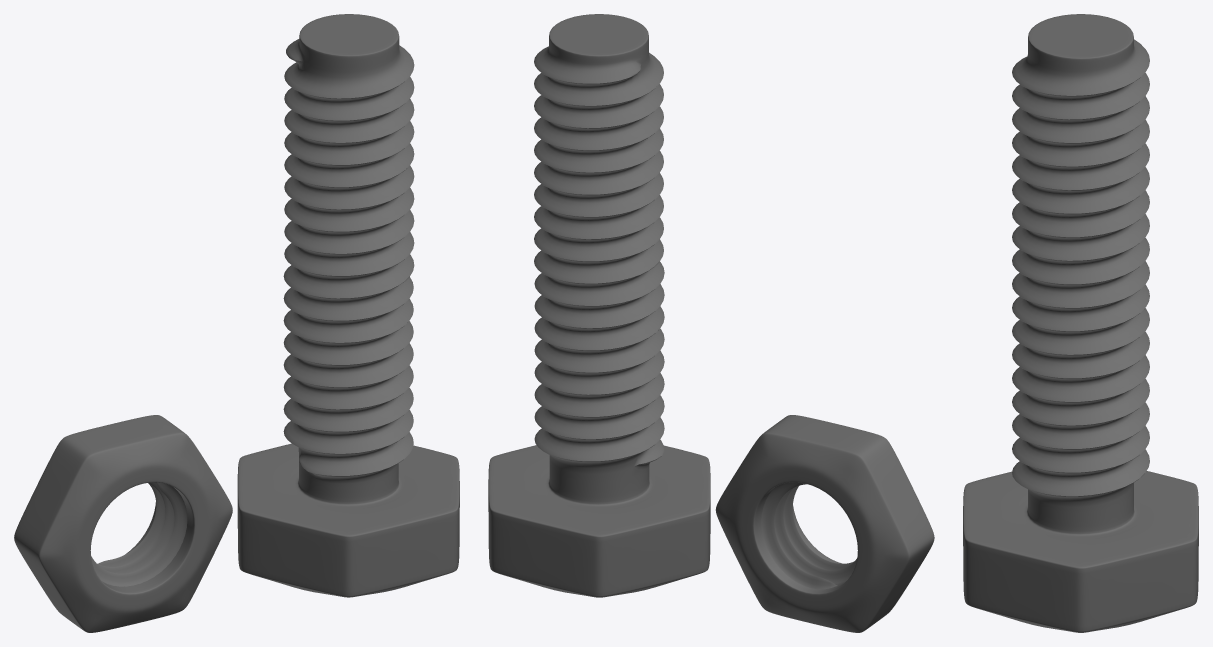
Rendered from Moly Coating.glb.
3 views of the same model, side by side, from view 1: azimuth 30°, elevation 25°; view 2: azimuth 150°, elevation 25°; view 3: azimuth 270°, elevation 25° (orthographic). The views are drawn at different scales.
Visible parts, largest first — view 1: Hex Screw_nut_; view 2: Hex Screw_nut_; view 3: Hex Screw_nut_.
Boxes of the visible parts, x1=… form: Hex Screw_nut_: x1=14, y1=14, x2=459, y2=632; Hex Screw_nut_: x1=488, y1=14, x2=934, y2=632; Hex Screw_nut_: x1=963, y1=14, x2=1198, y2=632.
Bounding box in the file's own units: 0.0197 × 0.0229 × 0.00879.
Materials: 1 (1 with a texture image).
